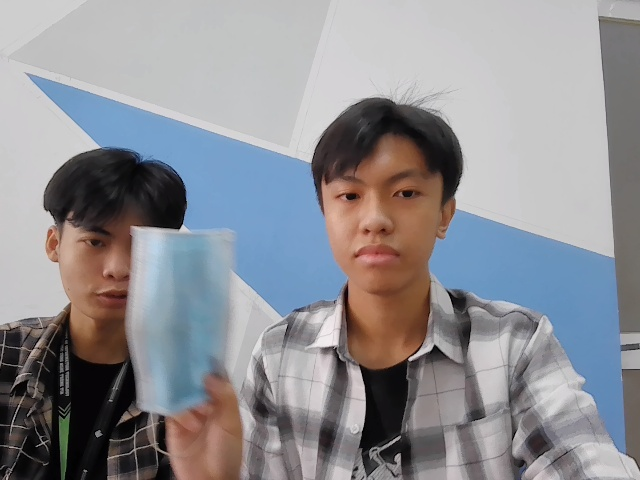human: (309, 101, 462, 291), (48, 148, 192, 320)
mask: (125, 225, 241, 406)
